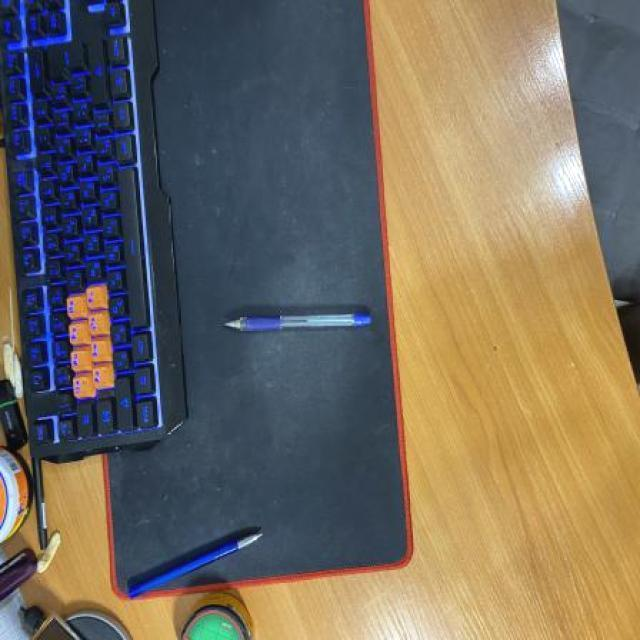pen: (224, 313, 376, 331)
